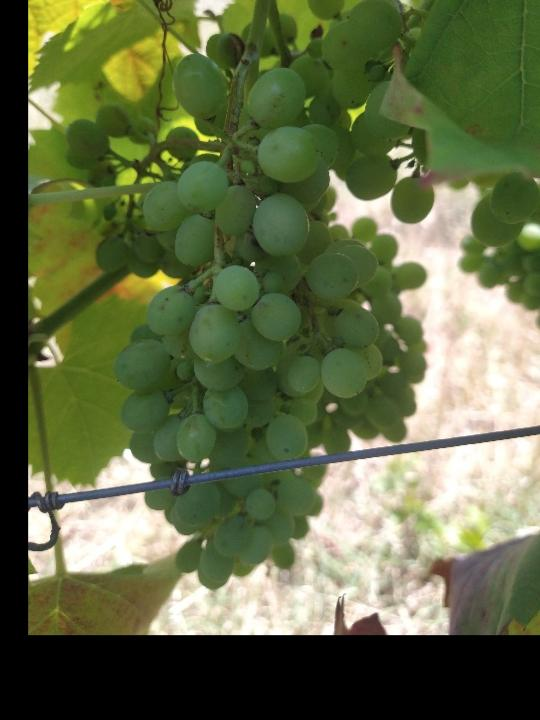grape: (57, 0, 445, 595)
